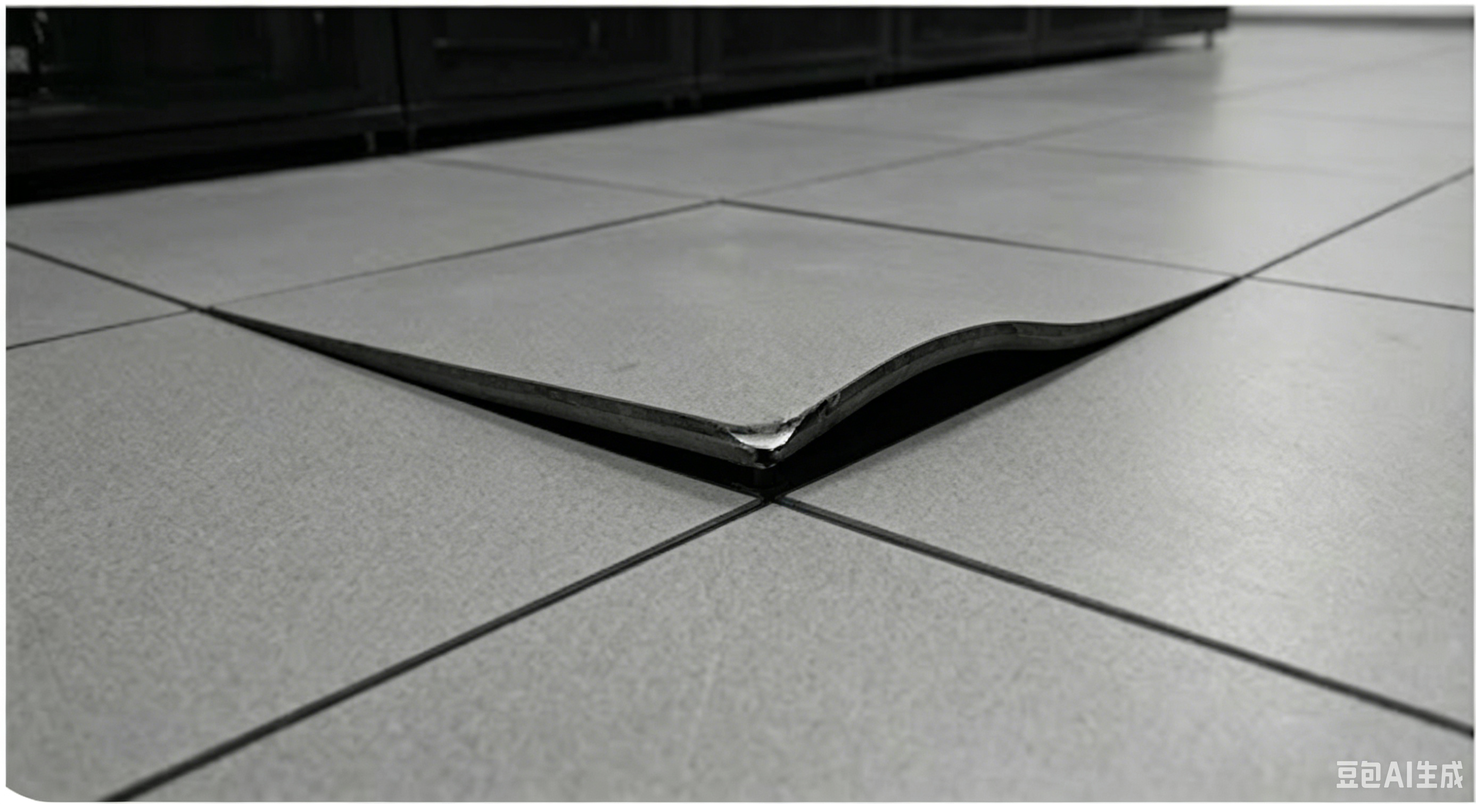floor_defect: (222, 300, 792, 504), (792, 319, 1019, 498), (1015, 294, 1171, 399), (1168, 271, 1248, 319)
